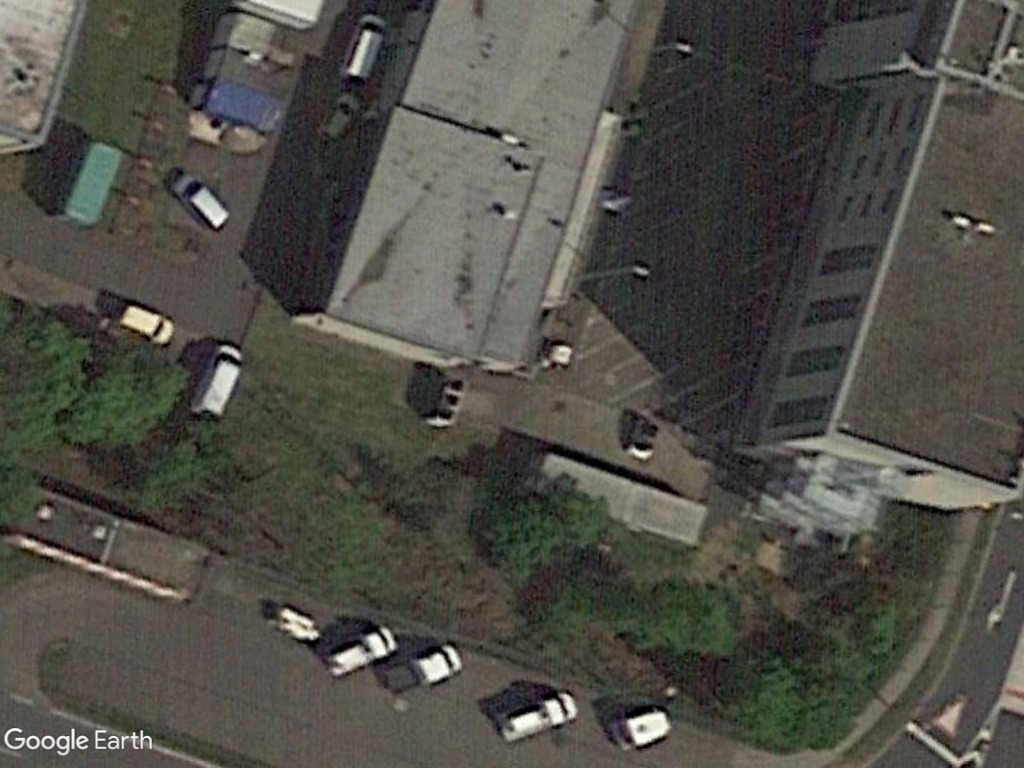van: (191, 337, 248, 425), (164, 166, 236, 235), (334, 10, 389, 85), (112, 298, 181, 350)
